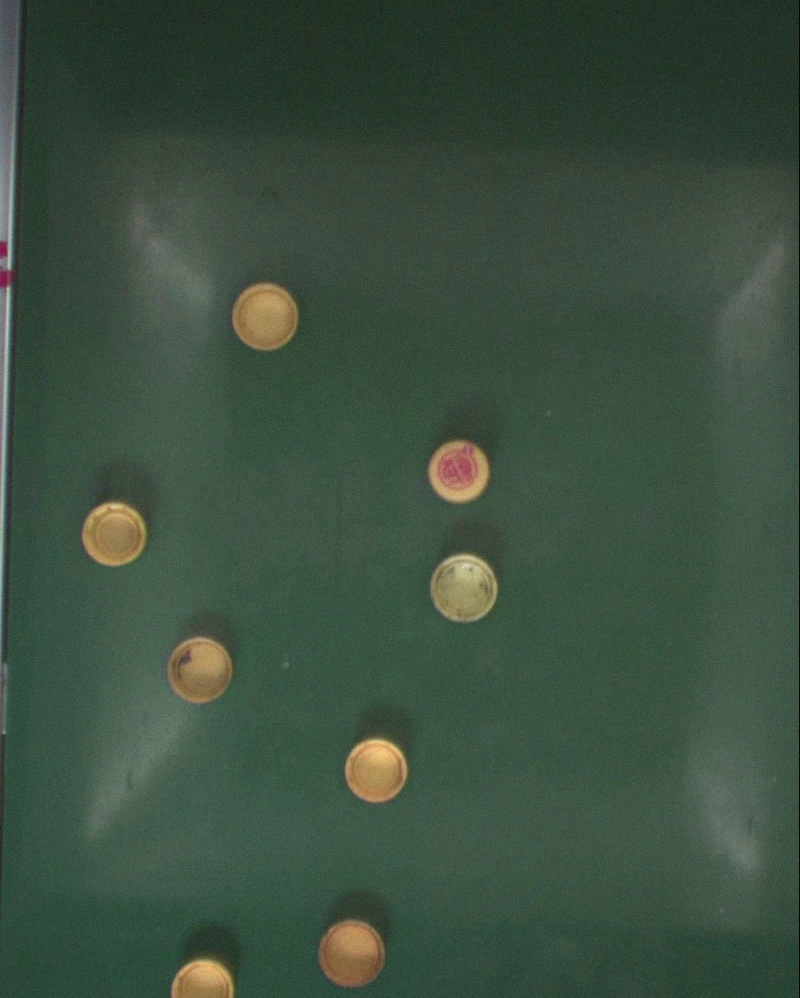Others: (231, 282, 299, 350), (343, 737, 410, 805), (431, 554, 497, 622), (166, 634, 232, 702), (319, 918, 385, 986), (81, 500, 148, 566), (426, 439, 491, 503), (169, 958, 235, 998)
